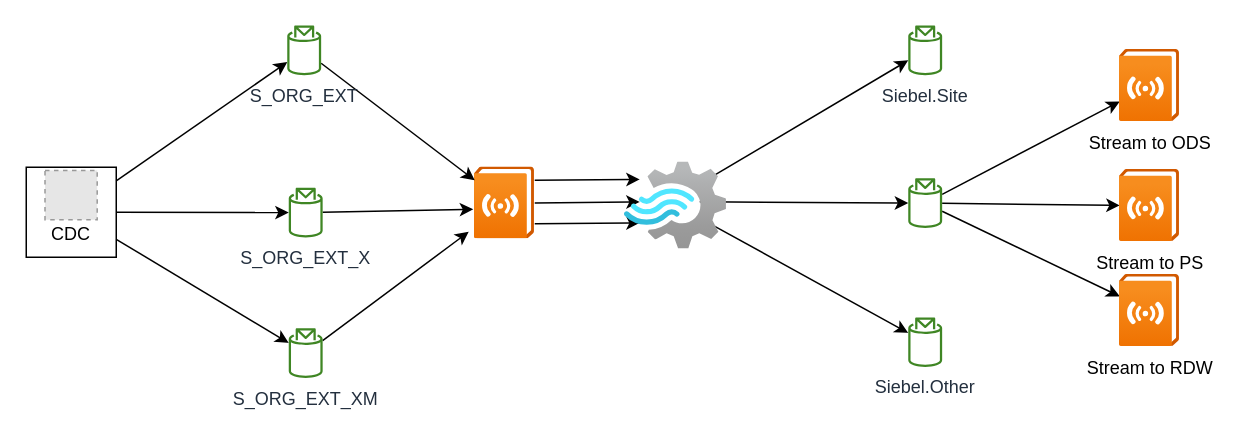
Image size: 1239x437. Some labels were removed from this diagram. Grey dashed boxes stand in for pictures. The shapes that lost their labels are listed below. From the top down, each one's centre as x and y in pixels, then its label:
the point at 504,202: Process Stream
the point at 675,204: Enrich Stream
the point at 924,202: Siebel.Account
